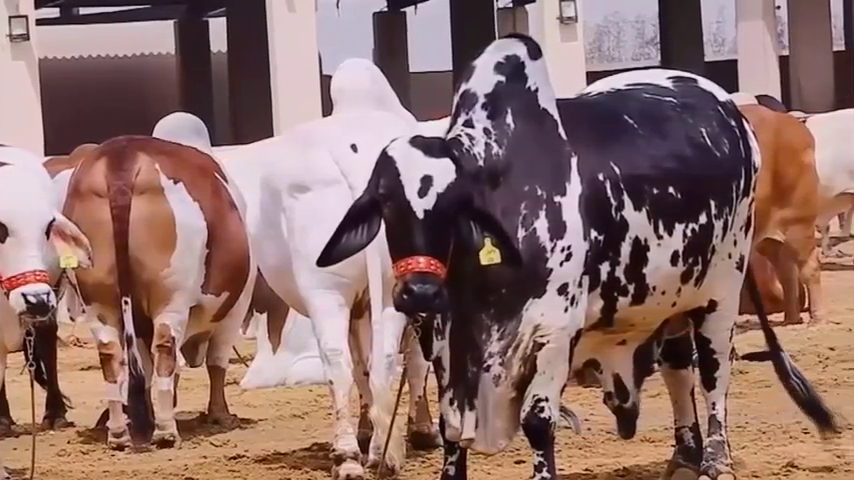bo: (294, 27, 854, 476), (250, 42, 461, 479), (55, 103, 267, 458), (3, 144, 104, 467), (724, 100, 825, 341), (786, 79, 854, 209)
